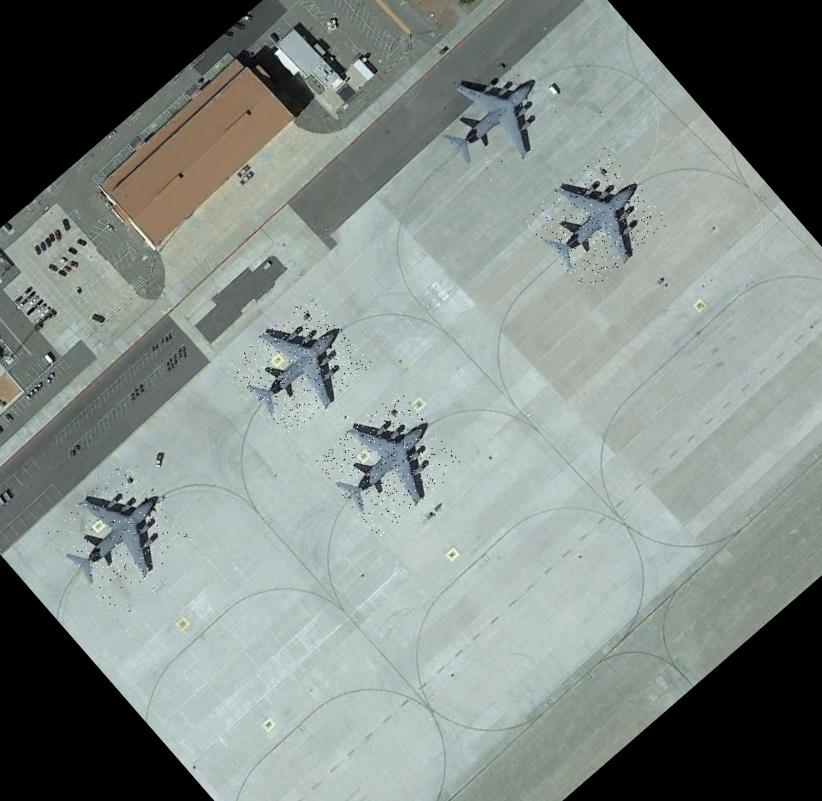A3: (312, 388, 464, 538), (522, 145, 672, 294), (43, 461, 191, 610), (224, 292, 372, 438), (421, 45, 567, 190)
